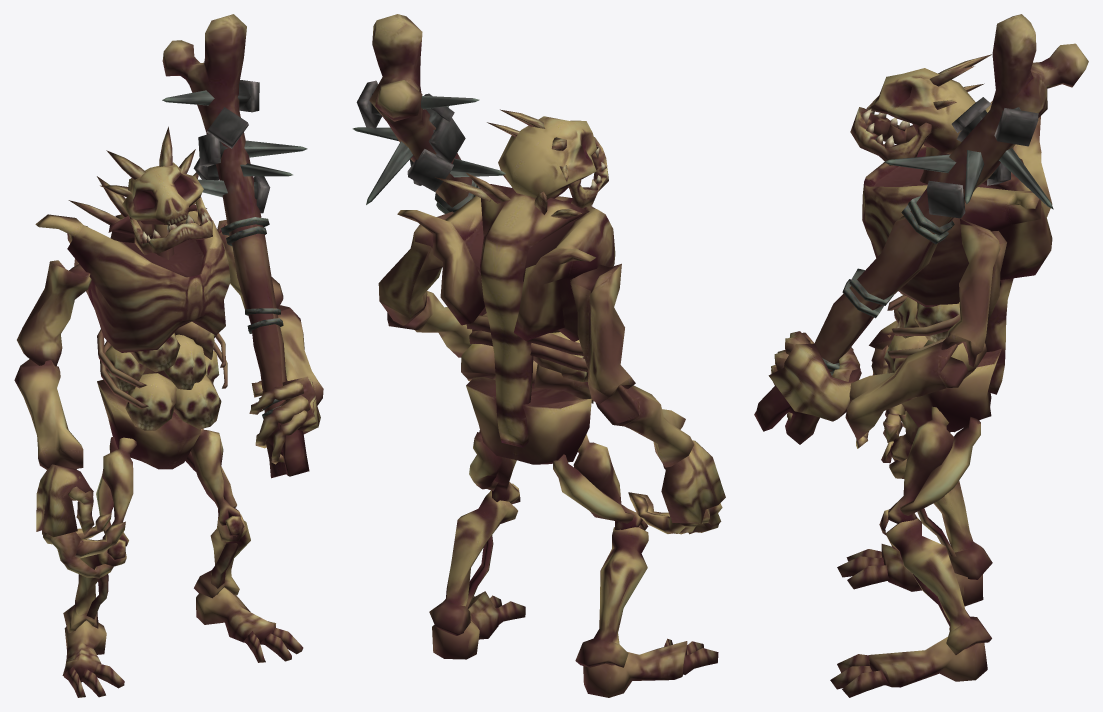
File: creature-bone-golem-mobile.glb
3 views of the same model, side by side, from view 1: azimuth 30°, elevation 25°; view 2: azimuth 150°, elevation 25°; view 3: azimuth 270°, elevation 25° (orthographic). The views are drawn at different scales.
Parts seen in each view (by area): view 1: creature-bone-golem; view 2: creature-bone-golem; view 3: creature-bone-golem.
Boxes of the visible parts, x1=… form: creature-bone-golem: x1=14, y1=14, x2=323, y2=697; creature-bone-golem: x1=352, y1=14, x2=725, y2=697; creature-bone-golem: x1=754, y1=14, x2=1088, y2=697.
Bounding box in the file's own units: 0.8503 × 1.6 × 0.7151.
Materials: 2 (2 with a texture image).
